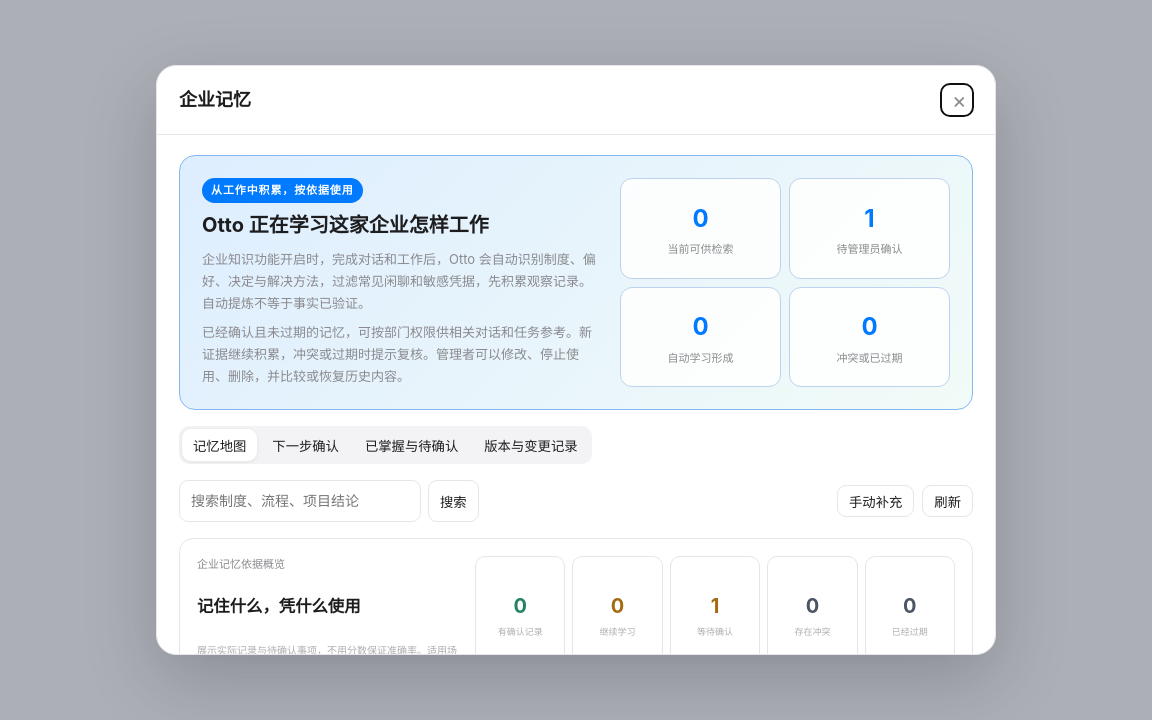
it: WorkspaceDialogs › 版本沿革保留待确认和停止使用的记忆，而不是仅展示当前启用项
Click the tab "版本与变更记录".
click(531, 445)  # box [473,429,589,461]
(page scrolled)
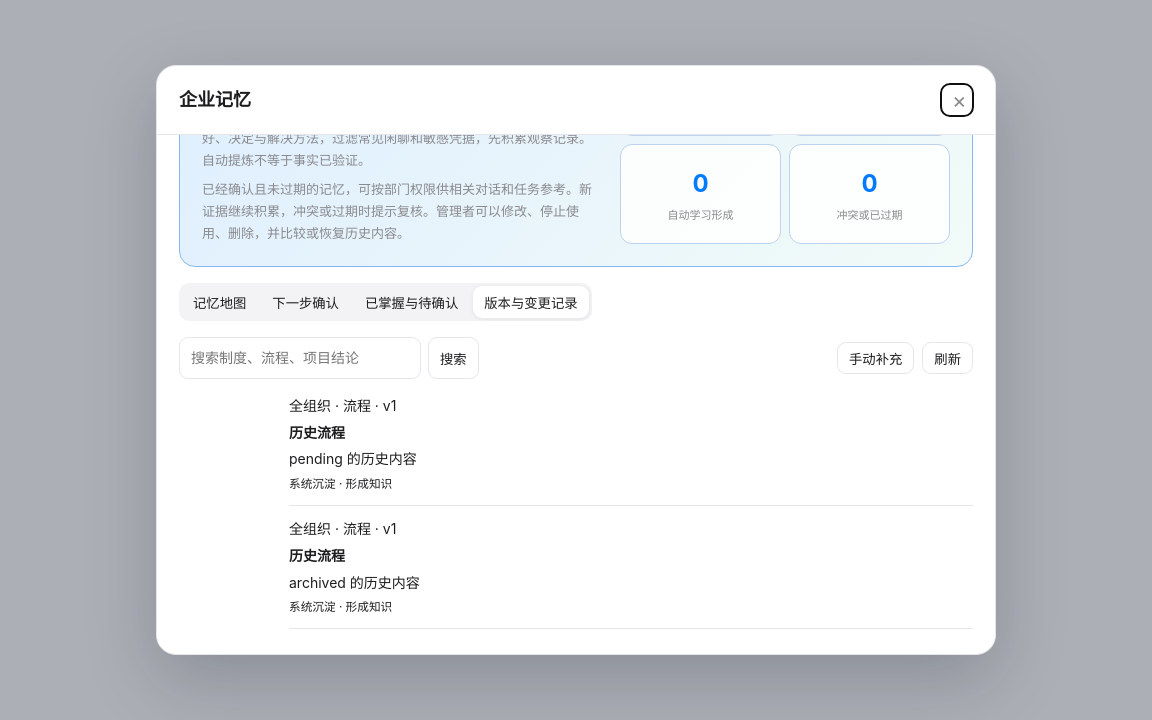
Expected: the text "pending 的历史内容" is shown, [289,450,417,468]
Expected: the text "archived 的历史内容" is shown, [289,574,420,591]
